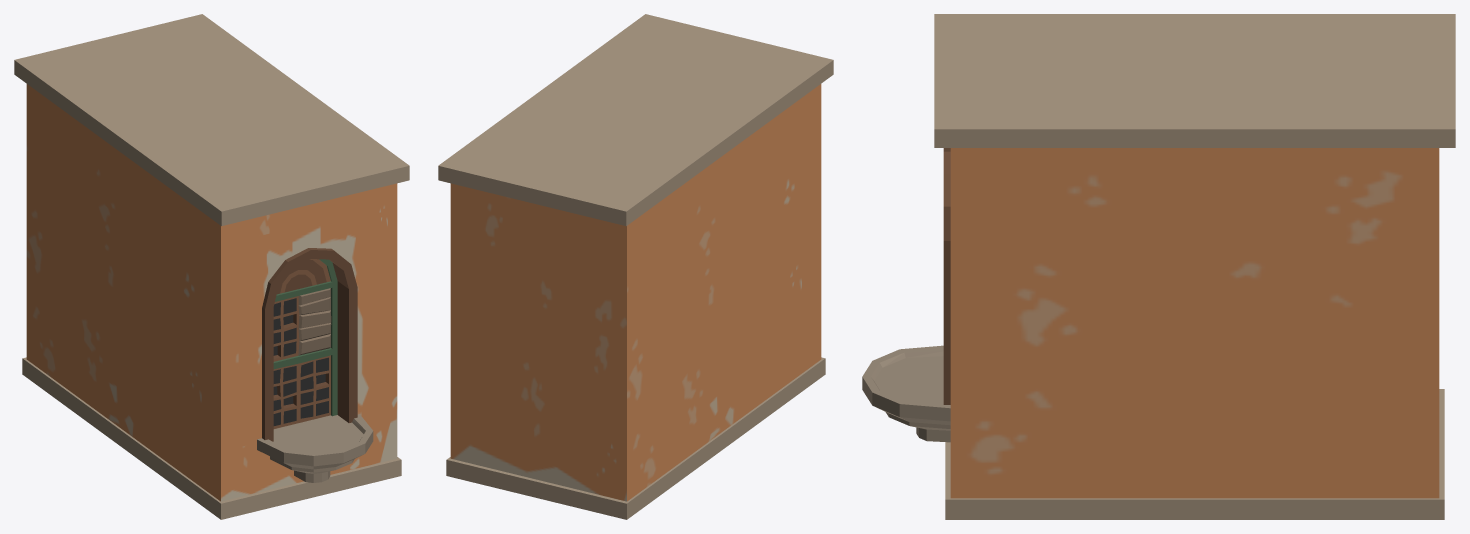
File: SM_Bld_Cuba_Room_Short_01.glb
3 renders of one model, left to right at view 1: azimuth 30°, elevation 25°; view 2: azimuth 150°, elevation 25°; view 3: azimuth 270°, elevation 25°, orthographic. The views are drawn at different scales.
Visible parts, largest first — view 1: SM_Bld_Cuba_Room_Short_01_part00; view 2: SM_Bld_Cuba_Room_Short_01_part00; view 3: SM_Bld_Cuba_Room_Short_01_part00.
Boxes of the visible parts, box(x1,y1,x2,y2) form: SM_Bld_Cuba_Room_Short_01_part00: box(14, 14, 409, 519); SM_Bld_Cuba_Room_Short_01_part00: box(438, 14, 833, 519); SM_Bld_Cuba_Room_Short_01_part00: box(862, 14, 1455, 519).
Size of the model in its own units: 2.1 by 3.33 by 4.56.
Materials: 1 (1 with a texture image).
